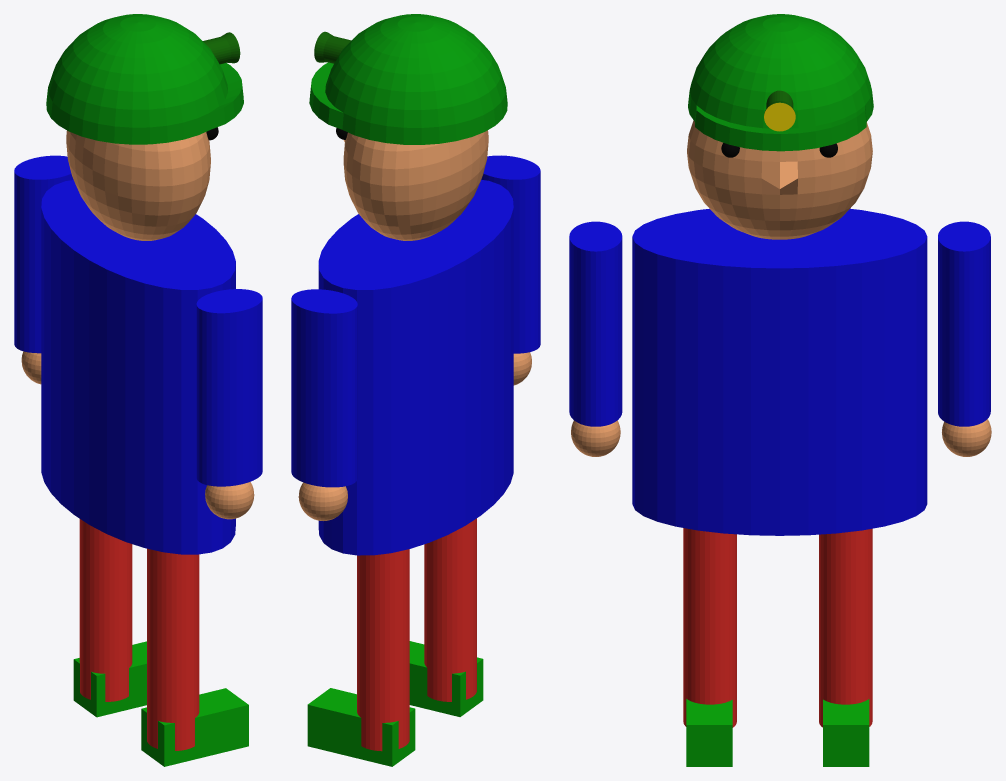
File: kmooc.fbx
3 views of the same model, side by side, from view 1: azimuth 30°, elevation 25°; view 2: azimuth 150°, elevation 25°; view 3: azimuth 270°, elevation 25° (orthographic).
Visible parts, largest first — view 1: 몸, 모자, 오른쪽팔, 머리, 오른쪽다리, 왼쪽다리, 왼쪽팔, 오른발, 왼발, 오른손, 라이트, 왼손; view 2: 몸, 모자, 왼쪽팔, 머리, 왼쪽다리, 오른쪽다리, 오른쪽팔, 왼발, 오른발, 왼손, 라이트, 오른손; view 3: 몸, 모자, 머리, 오른쪽팔, 왼쪽팔, 오른쪽다리, 왼쪽다리, 왼발, 오른발, 왼손, 오른손, 라이트.
Boxes of the visible parts, <box> form: 몸: <box>41,180,235,554</box>; 모자: <box>46,14,243,144</box>; 오른쪽팔: <box>196,289,262,486</box>; 머리: <box>66,130,210,240</box>; 오른쪽다리: <box>147,548,199,750</box>; 왼쪽다리: <box>79,519,132,701</box>; 왼쪽팔: <box>14,155,73,353</box>; 오른발: <box>141,688,248,766</box>; 왼발: <box>73,641,146,717</box>; 오른손: <box>205,482,254,519</box>; 라이트: <box>203,32,240,64</box>; 왼손: <box>21,351,41,384</box>; 몸: <box>318,179,513,555</box>; 모자: <box>309,14,507,144</box>; 왼쪽팔: <box>291,289,357,487</box>; 머리: <box>343,130,488,240</box>; 왼쪽다리: <box>357,549,409,751</box>; 오른쪽다리: <box>424,518,476,701</box>; 오른쪽팔: <box>481,155,540,353</box>; 왼발: <box>307,688,415,766</box>; 오른발: <box>409,641,483,716</box>; 왼손: <box>298,482,347,520</box>; 라이트: <box>314,31,351,63</box>; 오른손: <box>513,352,531,385</box>; 몸: <box>632,208,927,535</box>; 모자: <box>688,14,873,151</box>; 머리: <box>687,120,872,239</box>; 오른쪽팔: <box>569,221,622,426</box>; 왼쪽팔: <box>938,221,990,426</box>; 오른쪽다리: <box>683,528,736,727</box>; 왼쪽다리: <box>819,528,872,727</box>; 왼발: <box>823,699,869,766</box>; 오른발: <box>686,699,732,766</box>; 왼손: <box>942,419,991,456</box>; 오른손: <box>571,420,620,456</box>; 라이트: <box>764,90,795,131</box>.
Size of the model in its own units: 218 by 846 by 454.
